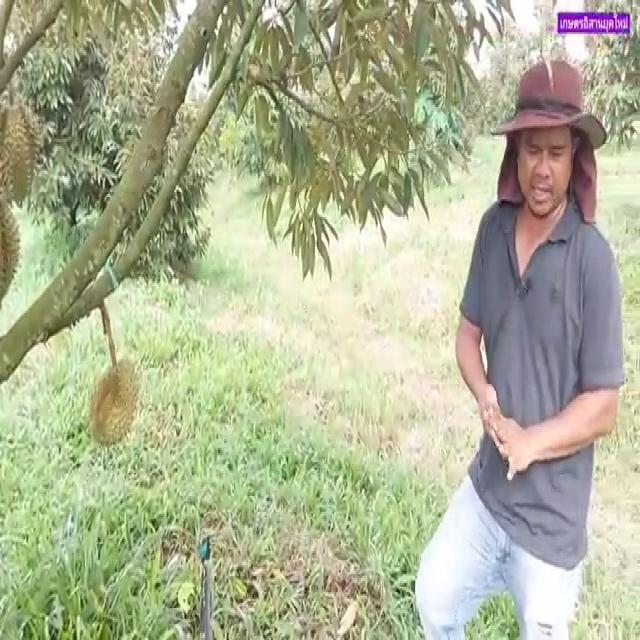durian: (85, 353, 142, 449), (2, 102, 42, 218)
